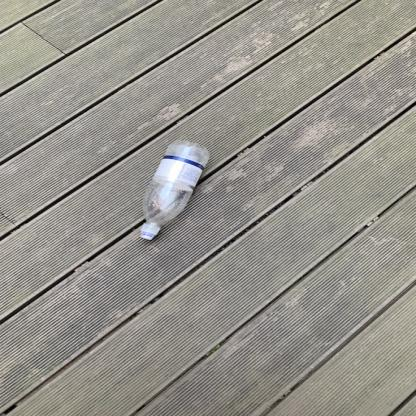trash: (138, 140, 210, 243)
